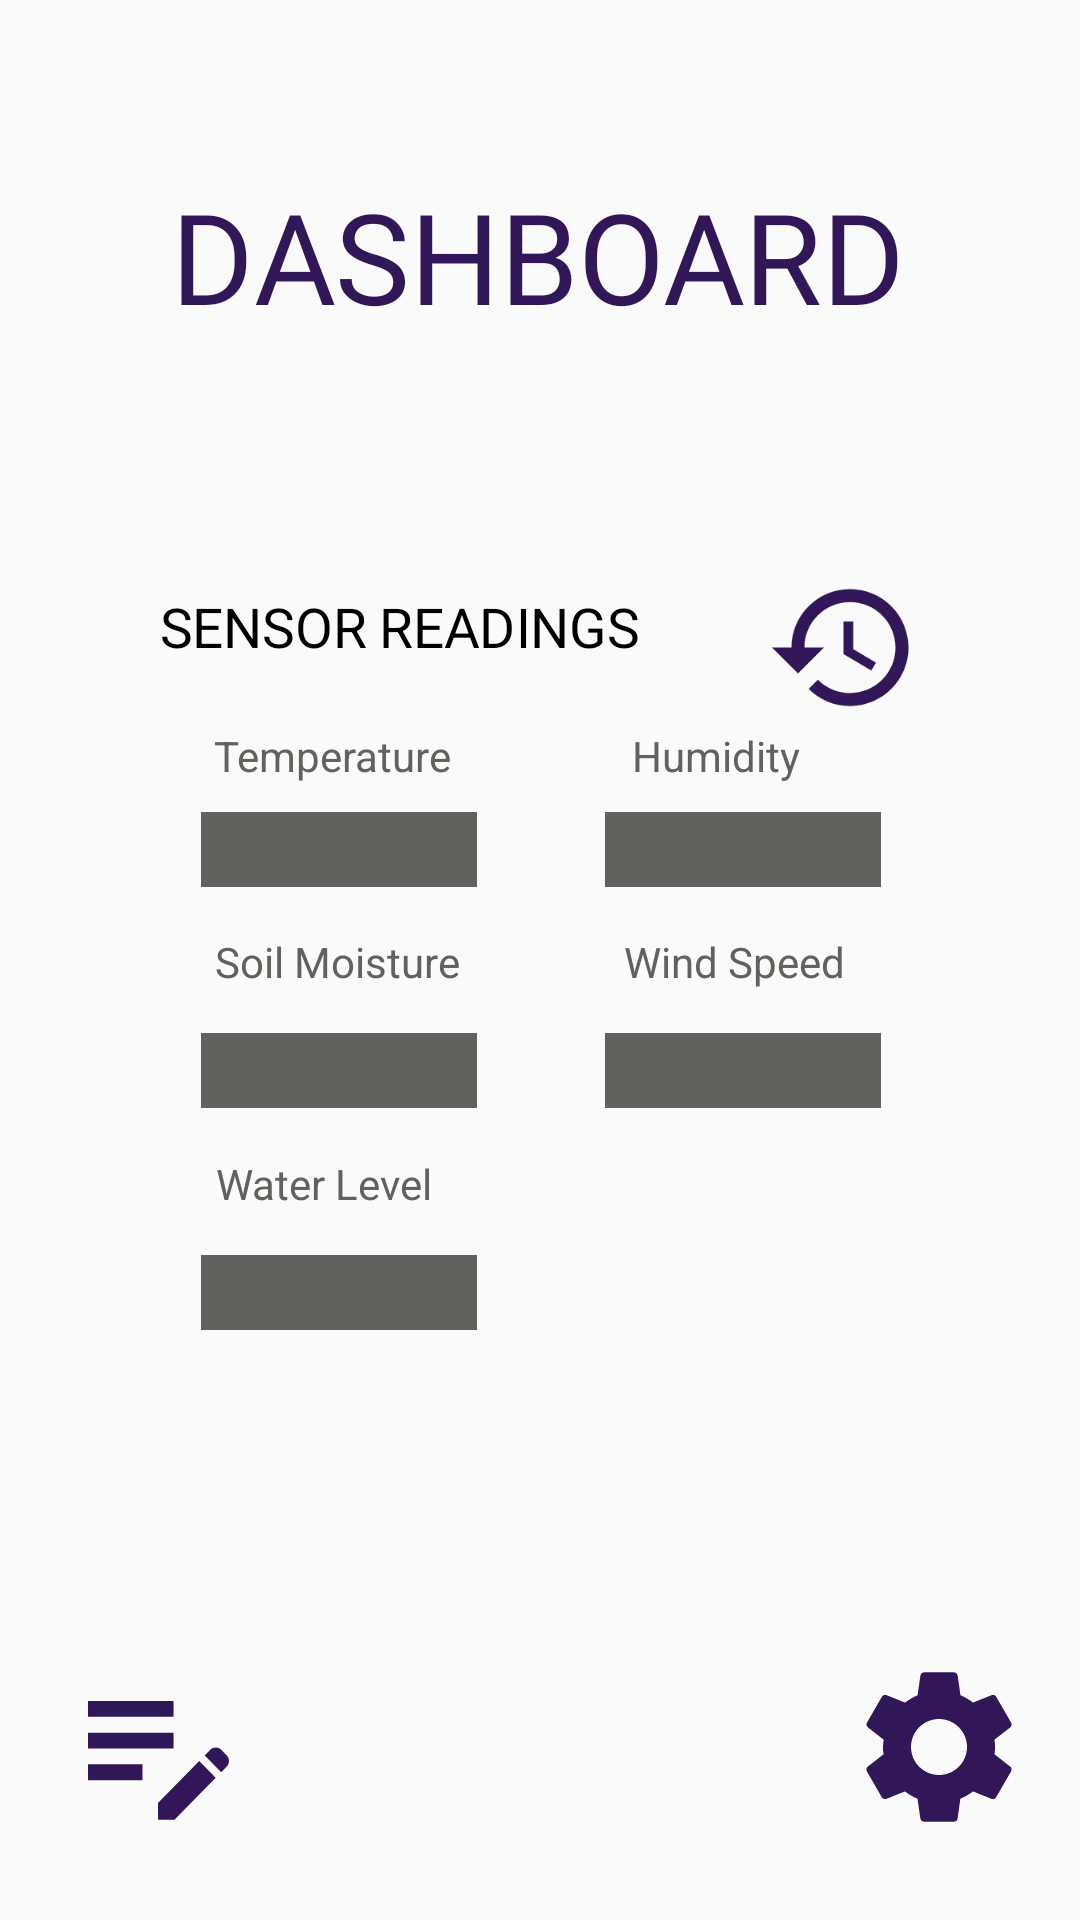

Icon click points for this 1080×1920 phone screenshot, format (x=x, y=y):
control: (x=939, y=1747)
edit: (x=158, y=1760)
